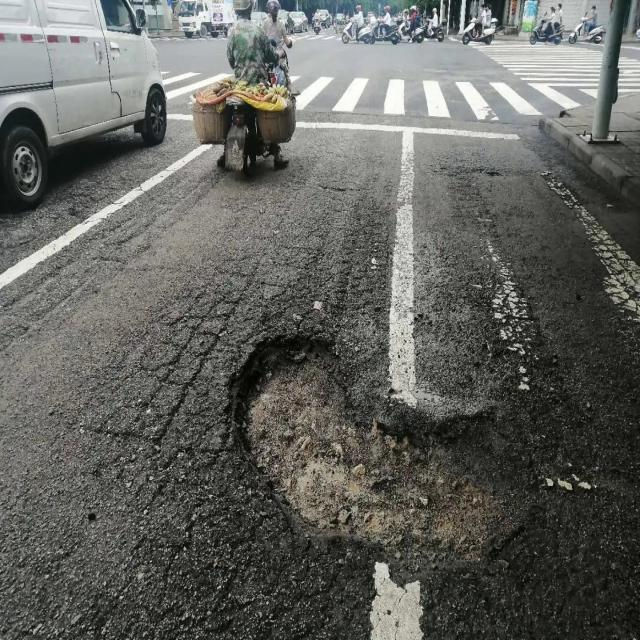Pothole: (211, 298, 540, 594)
